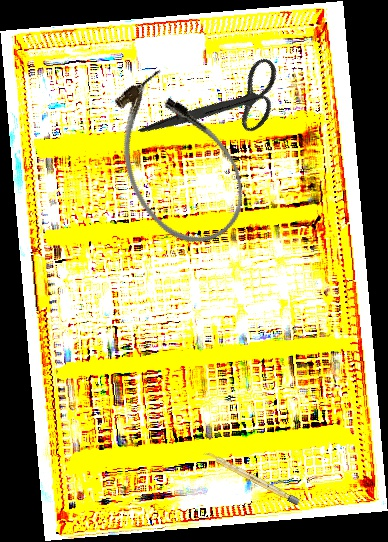Cannula: (88, 57, 264, 263)
Iris Scissors: (138, 24, 297, 189)
Scalpel Handle: (202, 449, 301, 506)
